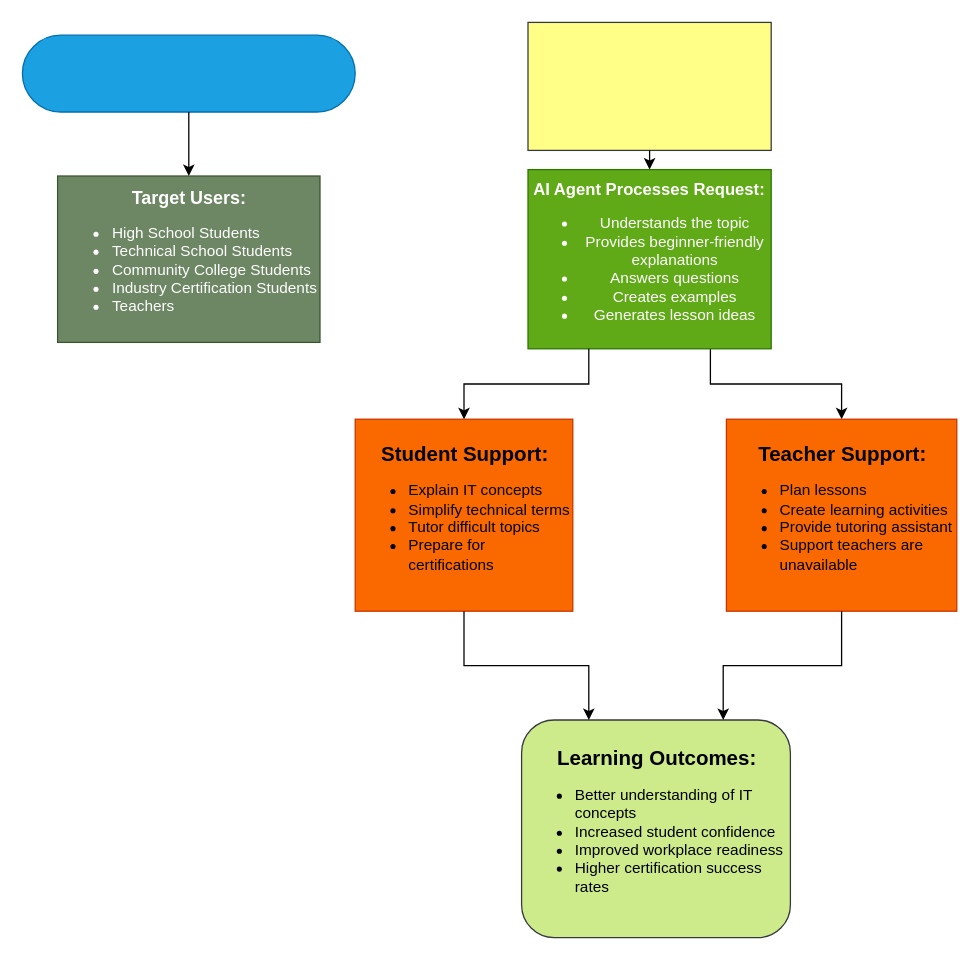
This 979x960 diagram has some shape labels left out. The shapes that lost their labels are listed below. From the top down, each one's box as (x1, y1, x2, y2) in pixels, then its label:
(21, 34, 355, 112): AI Agent for IT Education (Techy )
(527, 21, 771, 150): User Asks a Question or Requests Learning Support
